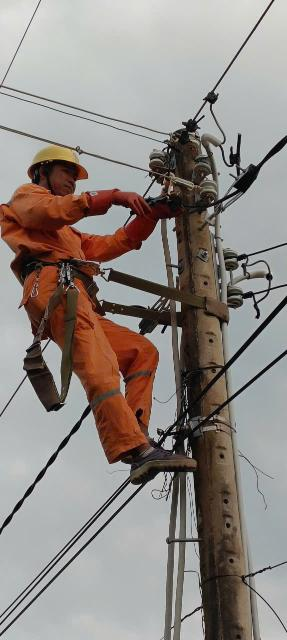gloves: (117, 189, 202, 253), (84, 187, 150, 221)
harness: (17, 245, 128, 320)
helmet: (26, 142, 90, 186)
shoes: (101, 435, 197, 482), (88, 430, 189, 458)
